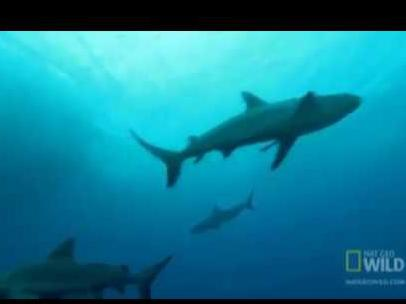Shark -Selachimorpha-: (125, 76, 366, 188)
